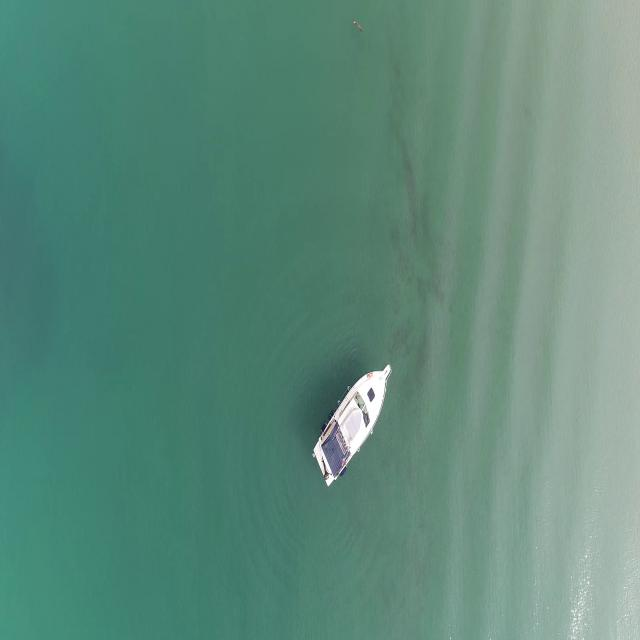boat: (315, 359, 392, 492)
wood: (352, 19, 364, 33)
